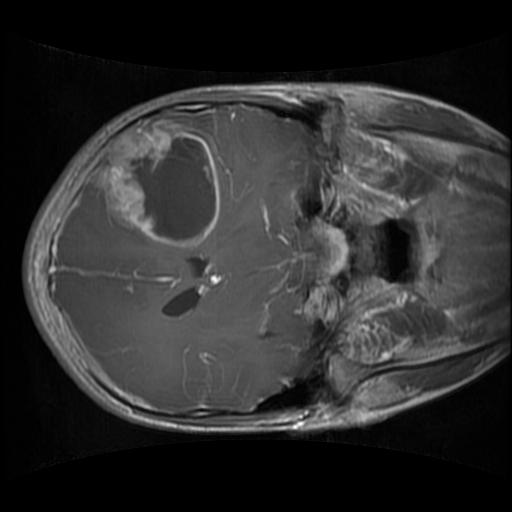glioma: (87, 120, 222, 253)
